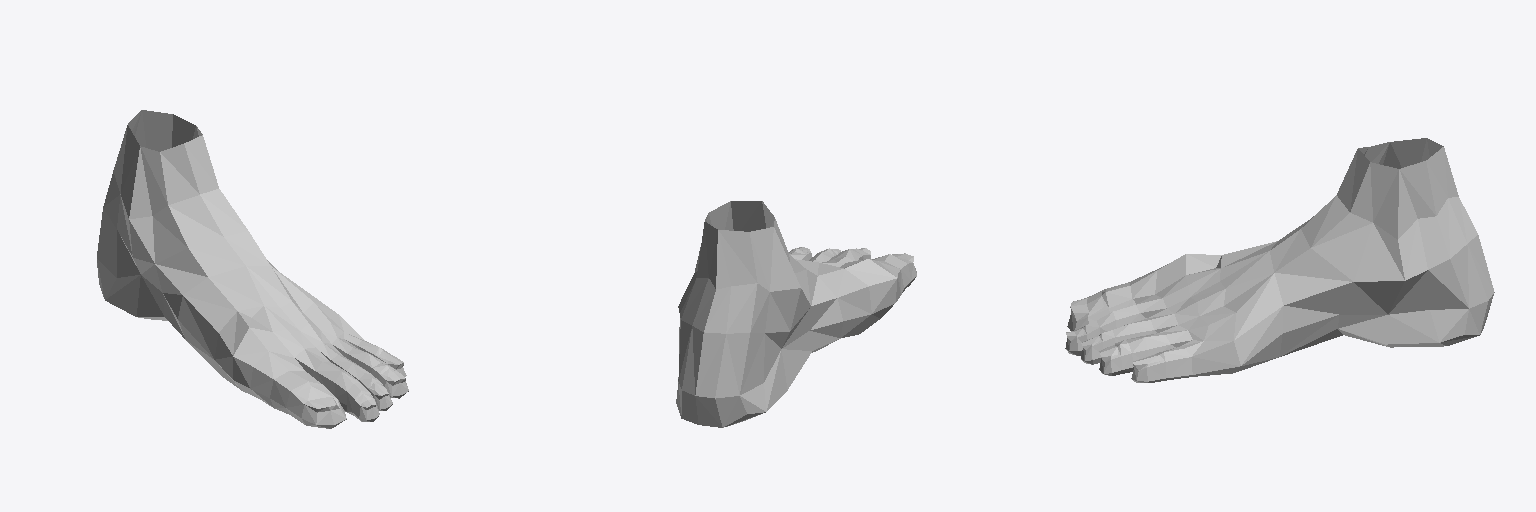
The model's file is foot01.obj.
The picture shows the model from 3 angles: view 1: azimuth 30°, elevation 25°; view 2: azimuth 150°, elevation 25°; view 3: azimuth 270°, elevation 25°; orthographic projection.
Visible parts, largest first — view 1: mesh_Geometry_Group_jesuinoPequeno_body_M.002; view 2: mesh_Geometry_Group_jesuinoPequeno_body_M.002; view 3: mesh_Geometry_Group_jesuinoPequeno_body_M.002.
Boxes of the visible parts, box(x1,y1,x2,y2) form: mesh_Geometry_Group_jesuinoPequeno_body_M.002: box(97, 110, 408, 428); mesh_Geometry_Group_jesuinoPequeno_body_M.002: box(676, 201, 916, 427); mesh_Geometry_Group_jesuinoPequeno_body_M.002: box(1065, 138, 1494, 382).
Bounding box in the file's own units: 0.5527 × 0.6202 × 1.28.